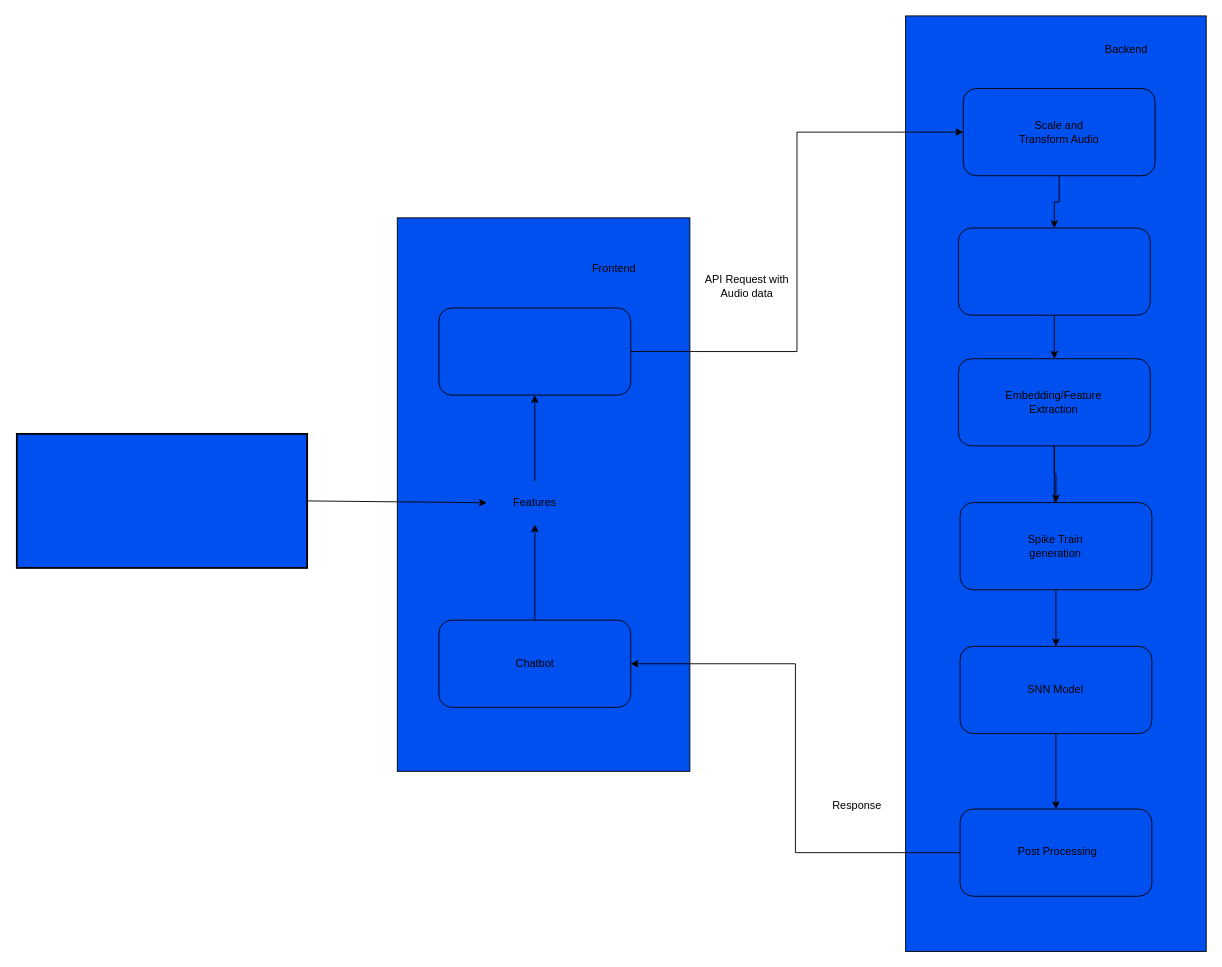
This 1222x967 diagram has some shape labels left out. Each missing label, with the box of its shape:
Preprocess Audio: (958, 227, 1150, 315)
Recording Voice Audio: (438, 307, 631, 395)
User's System: (15, 433, 308, 568)
